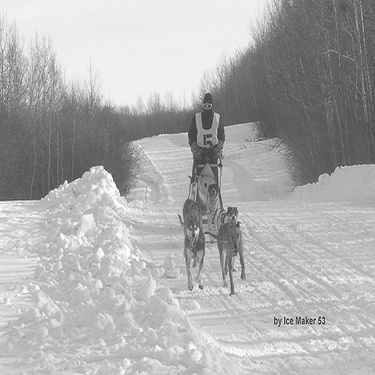dog: (199, 219, 247, 300), (166, 214, 207, 295), (178, 174, 202, 221), (207, 203, 243, 229), (204, 182, 226, 223)
